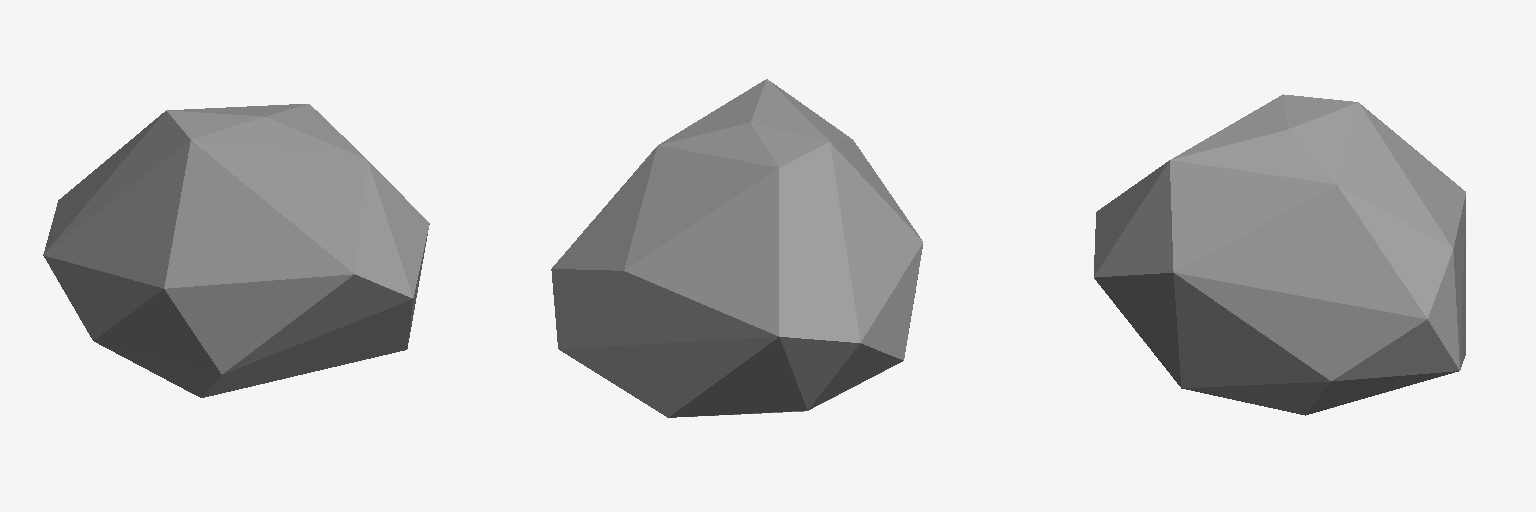
Rendered from Stein3.obj.
3 renders of one model, left to right at view 1: azimuth 30°, elevation 25°; view 2: azimuth 150°, elevation 25°; view 3: azimuth 270°, elevation 25°, orthographic.
Parts seen in each view (by area): view 1: Sphere; view 2: Sphere; view 3: Sphere.
Part boxes in pixels (x1,y1,x2,y2): Sphere: (43, 104, 429, 397); Sphere: (551, 79, 922, 417); Sphere: (1094, 94, 1465, 415).
Bounding box in the file's own units: 3 × 2.5 × 3.17.